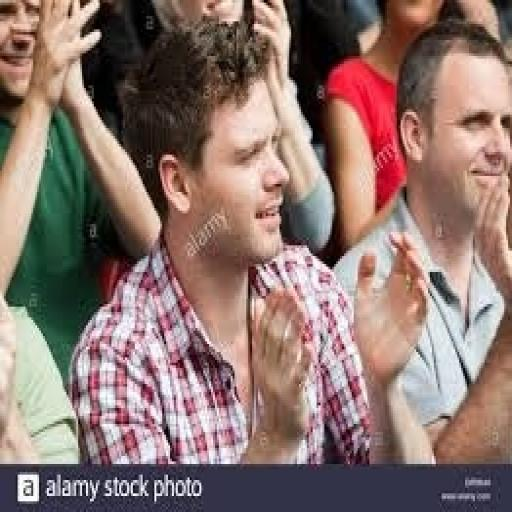clapping: (0, 0, 510, 464), (328, 16, 510, 464)
